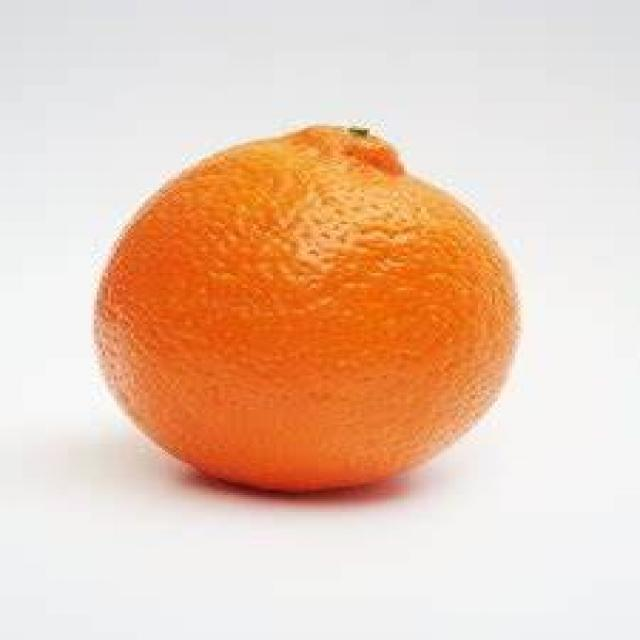Orange: (90, 122, 530, 494)
